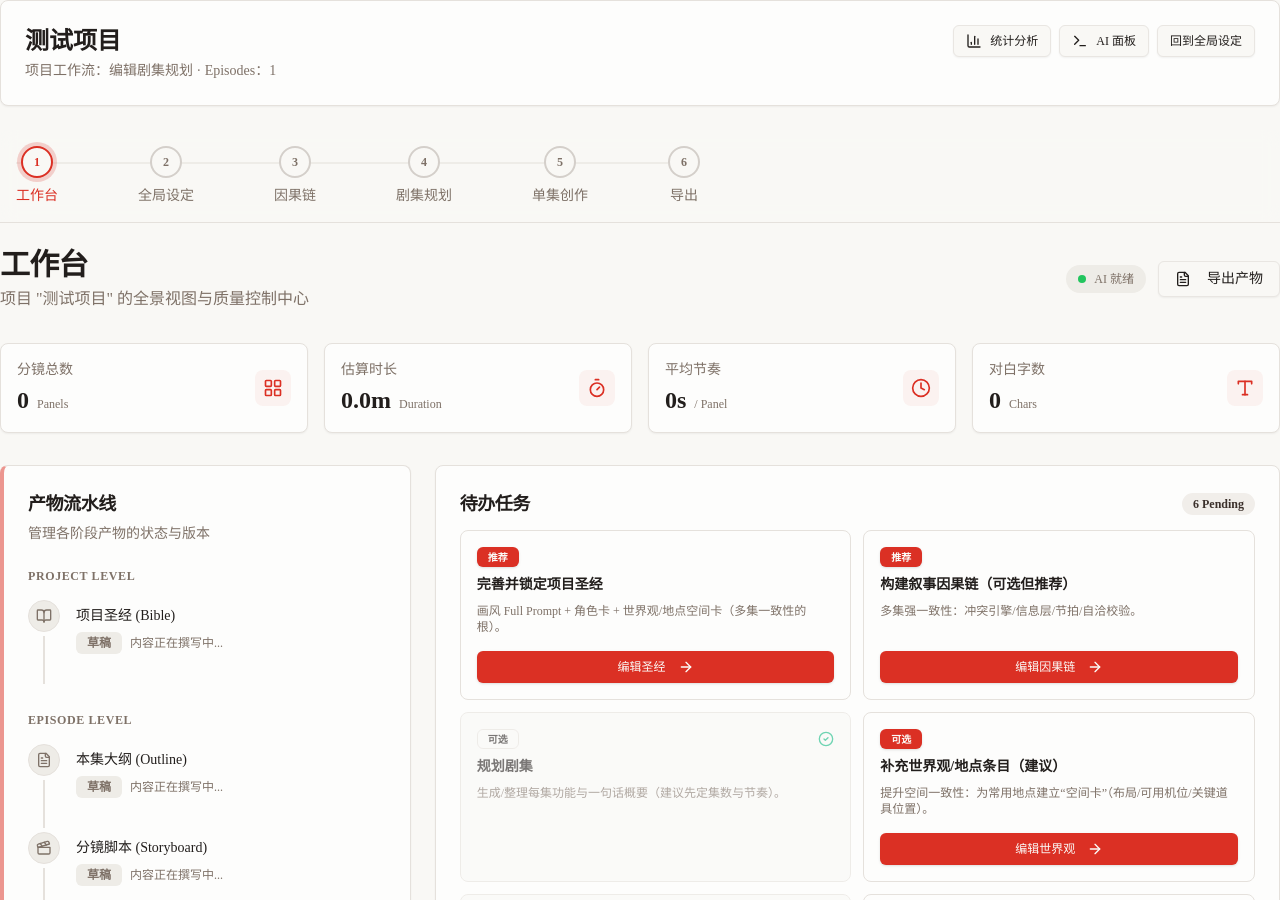
EpisodeWorkflow › 单集创作 Agent 在运行中应展示 progress 返回的分镜子任务
The width and height of the screenshot is (1280, 900).
Click the text "单集创作" at (560, 196), box [532,186,588,206]
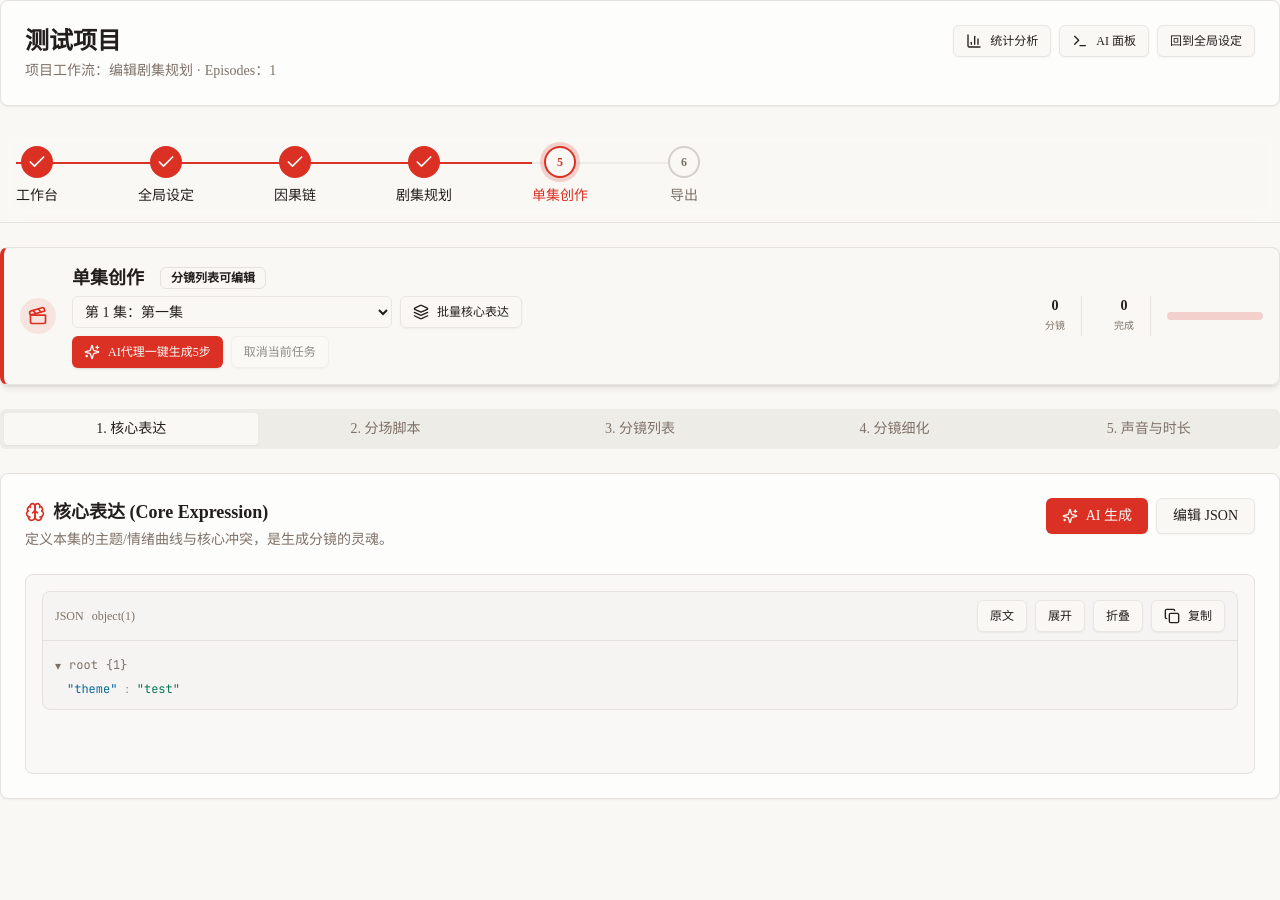
Click the button "AI代理一键生成5步" at (147, 352), box [72,336,223,368]
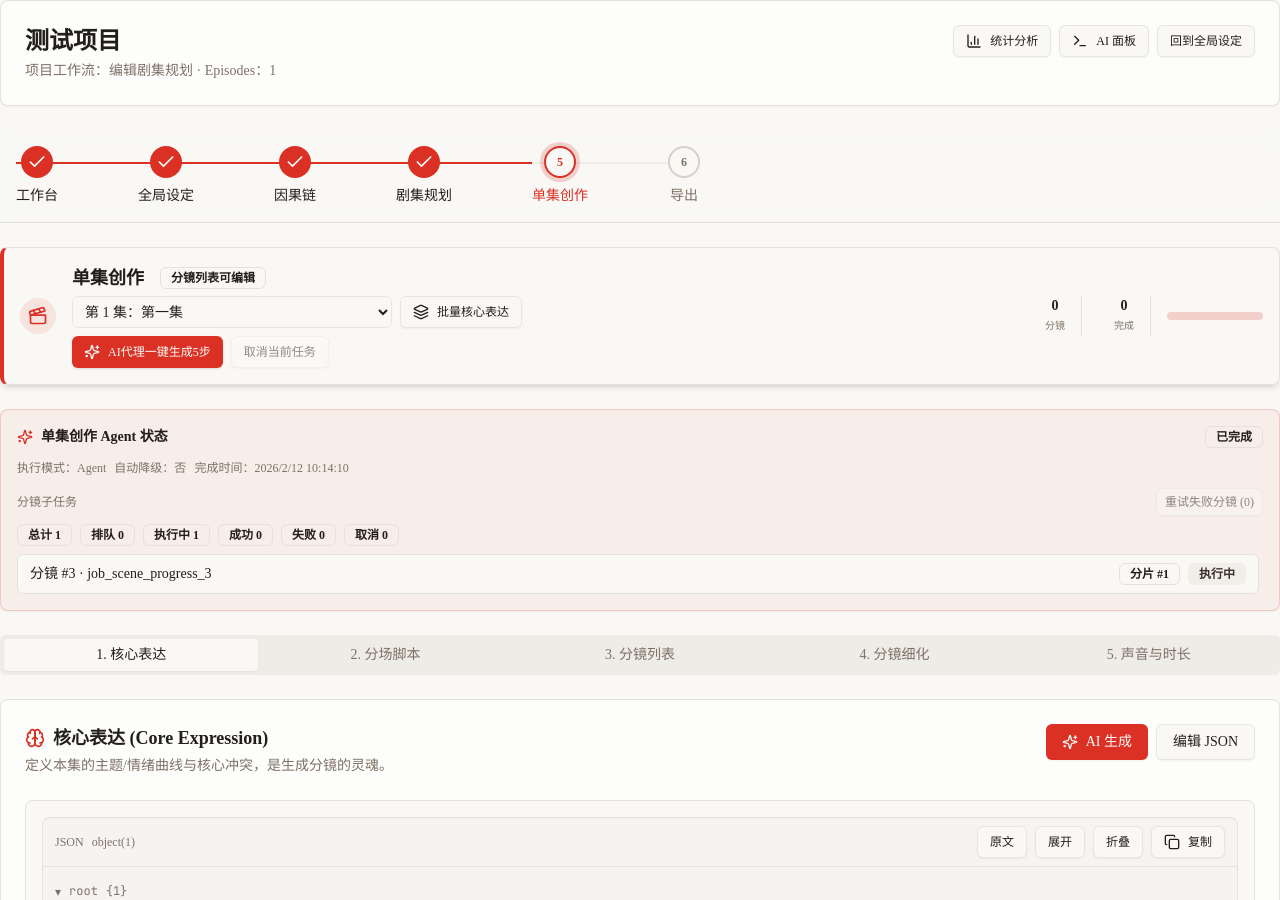
Check: the text "分镜子任务" is shown, box [17,494,77,510]
Check: the text "分镜 #3 · job_scene_progress_3" is shown, box [30,564,212,584]
Check: the text "执行中" is shown, box [1188,563,1246,585]
